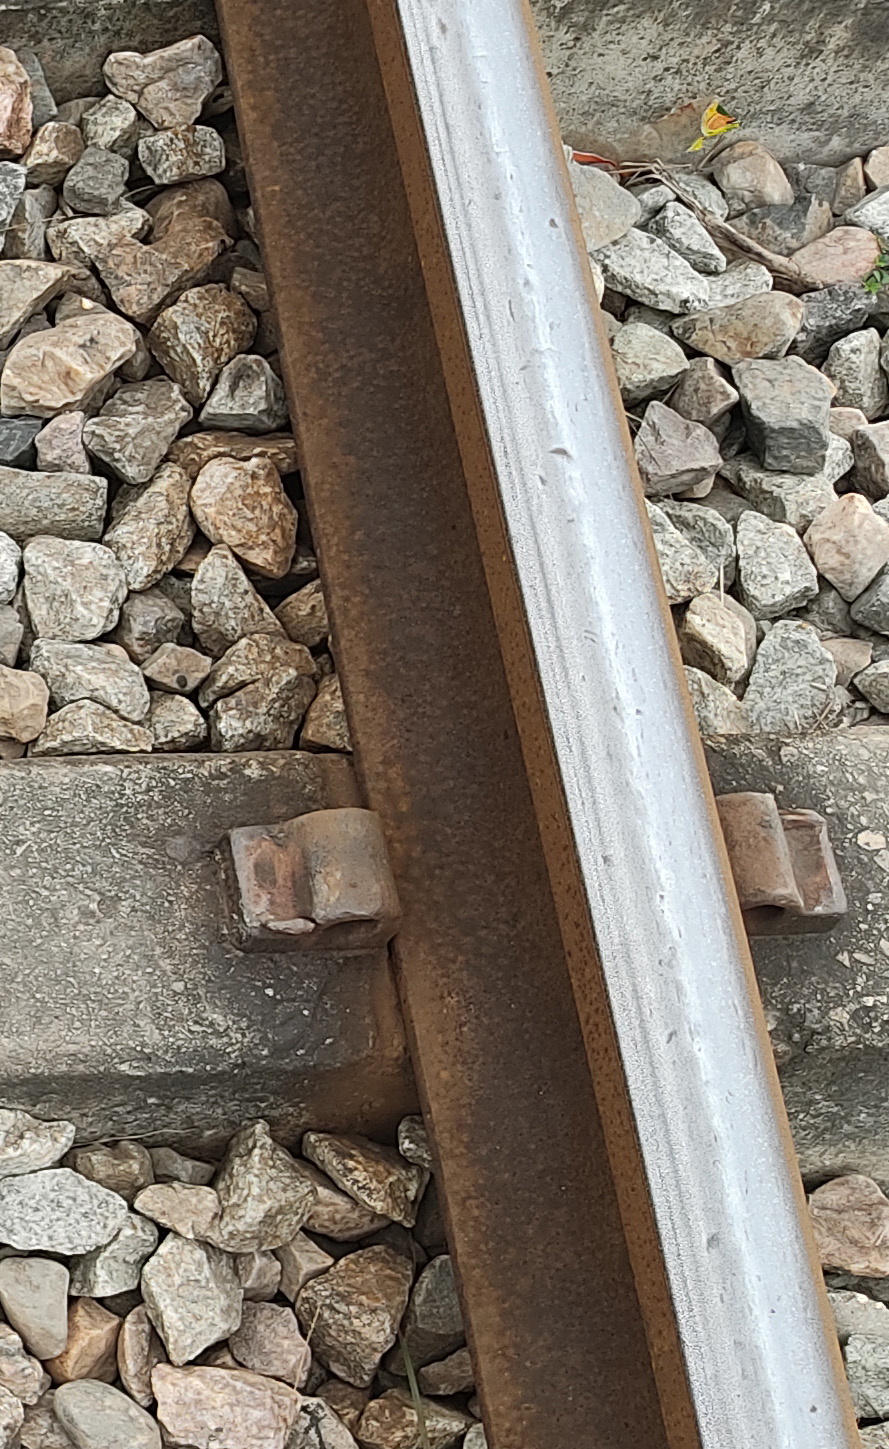error1: (208, 743, 442, 1084), (689, 732, 872, 993)
